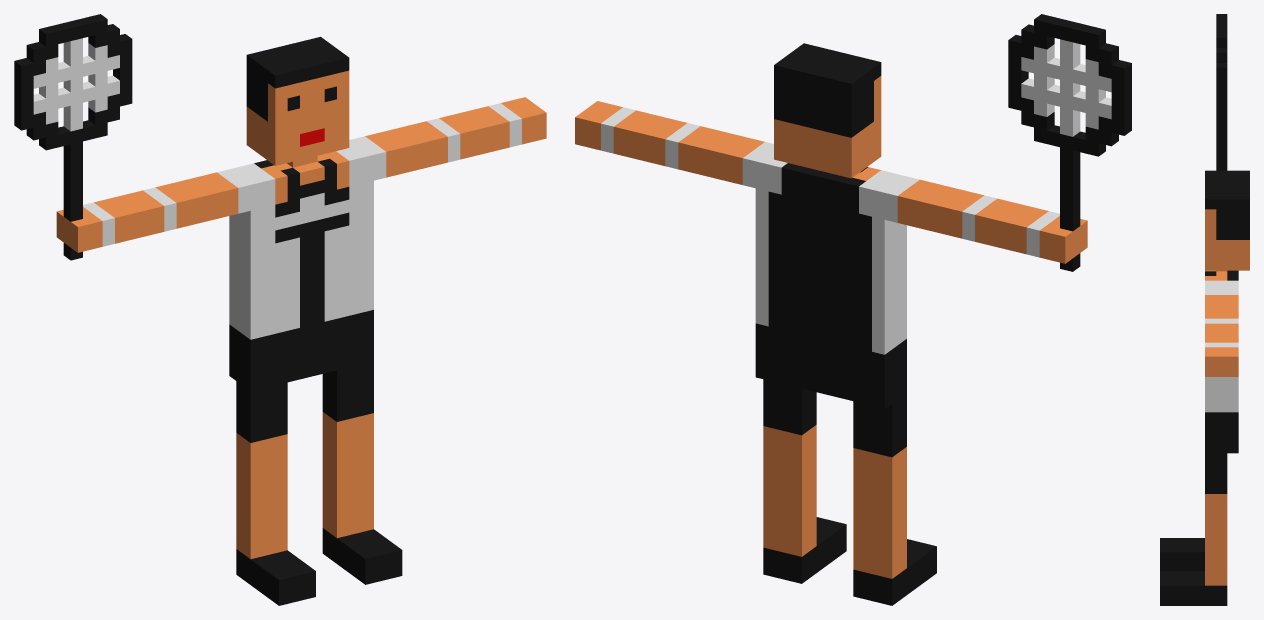
Rendered from badminton.obj.
The picture shows the model from 3 angles, left to right: view 1: azimuth 30°, elevation 25°; view 2: azimuth 150°, elevation 25°; view 3: azimuth 270°, elevation 25°; orthographic projection. The views are drawn at different scales.
Bounding box in the file's own units: 42 × 46 × 8.
Materials: 1 (1 with a texture image).
